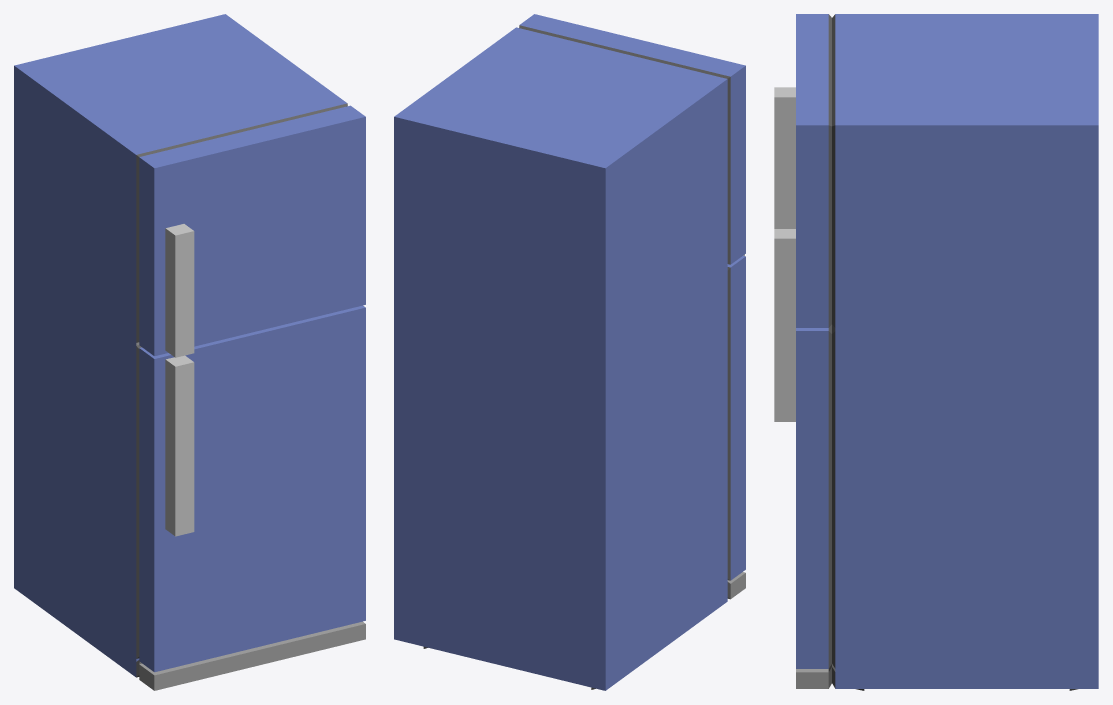
The model's file is Refrigerator7.fbx.
3 renders of one model, left to right at view 1: azimuth 30°, elevation 25°; view 2: azimuth 150°, elevation 25°; view 3: azimuth 270°, elevation 25°, orthographic. The views are drawn at different scales.
Parts seen in each view (by area): view 1: Cube; view 2: Cube; view 3: Cube.
Part boxes in pixels (x1=…): Cube: x1=14, y1=14, x2=365, y2=690; Cube: x1=394, y1=14, x2=745, y2=690; Cube: x1=774, y1=14, x2=1098, y2=690.
Size of the model in its own units: 1 by 2.41 by 1.23.
